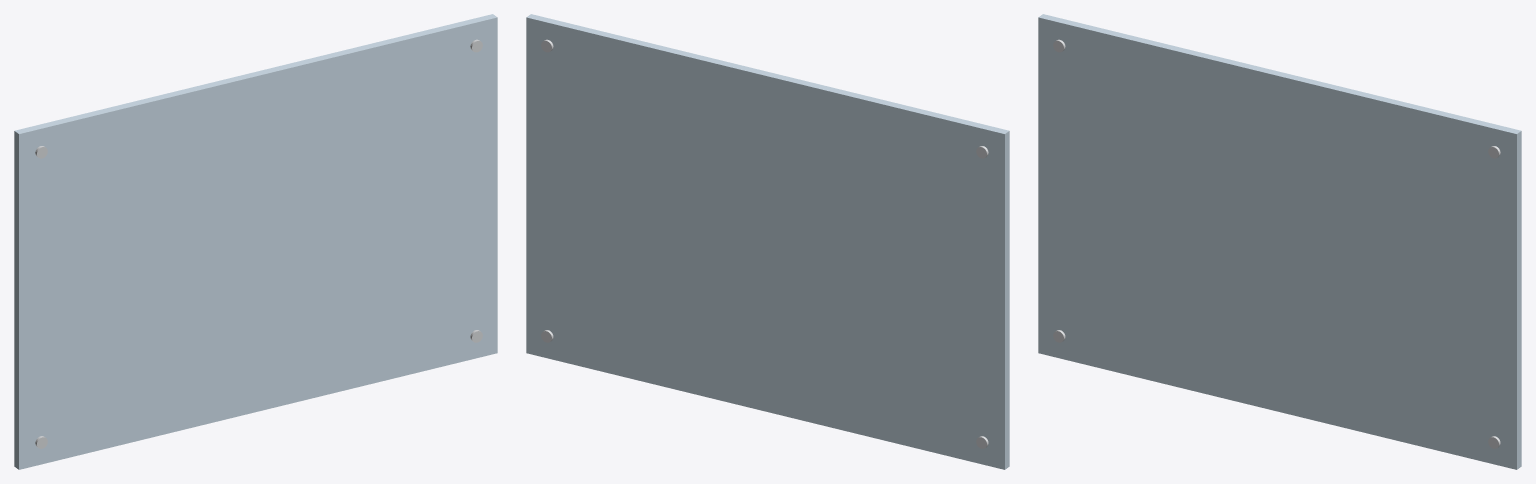
File: whiteboard-PRIM-002.glb
The picture shows the model from 3 angles, left to right: view 1: azimuth 30°, elevation 25°; view 2: azimuth 150°, elevation 25°; view 3: azimuth 330°, elevation 25°; orthographic projection.
Visible parts, largest first — view 1: p0; view 2: p0; view 3: p0.
Boxes of the visible parts, x1,y1,x2,y2 form: p0: [14, 14, 497, 469]; p0: [526, 14, 1009, 469]; p0: [1038, 14, 1521, 469].
Bounding box in the file's own units: 1.76 × 1.18 × 0.05.
